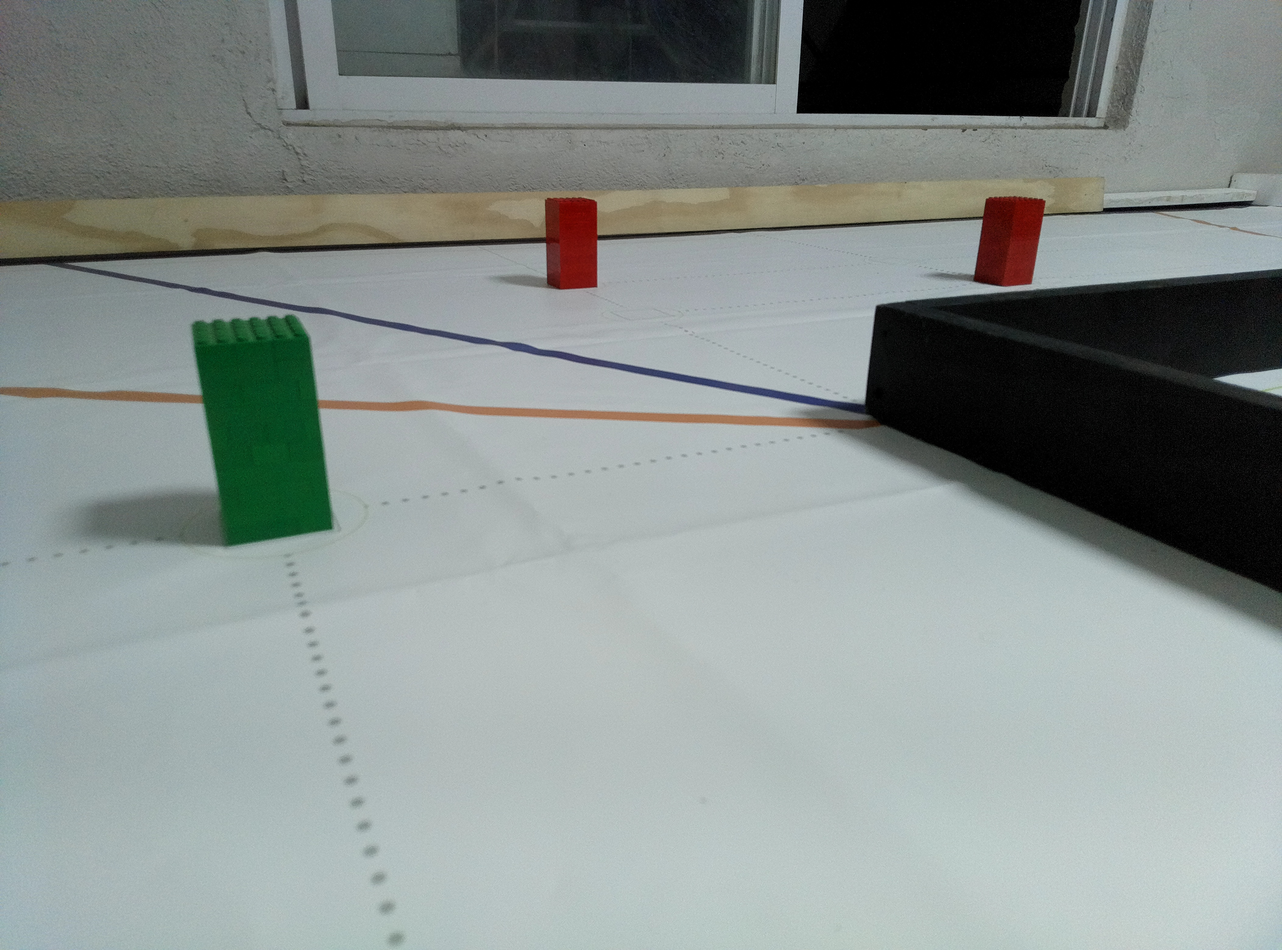greenbox: (186, 315, 334, 547)
redbox: (972, 196, 1046, 287), (544, 196, 600, 290)
